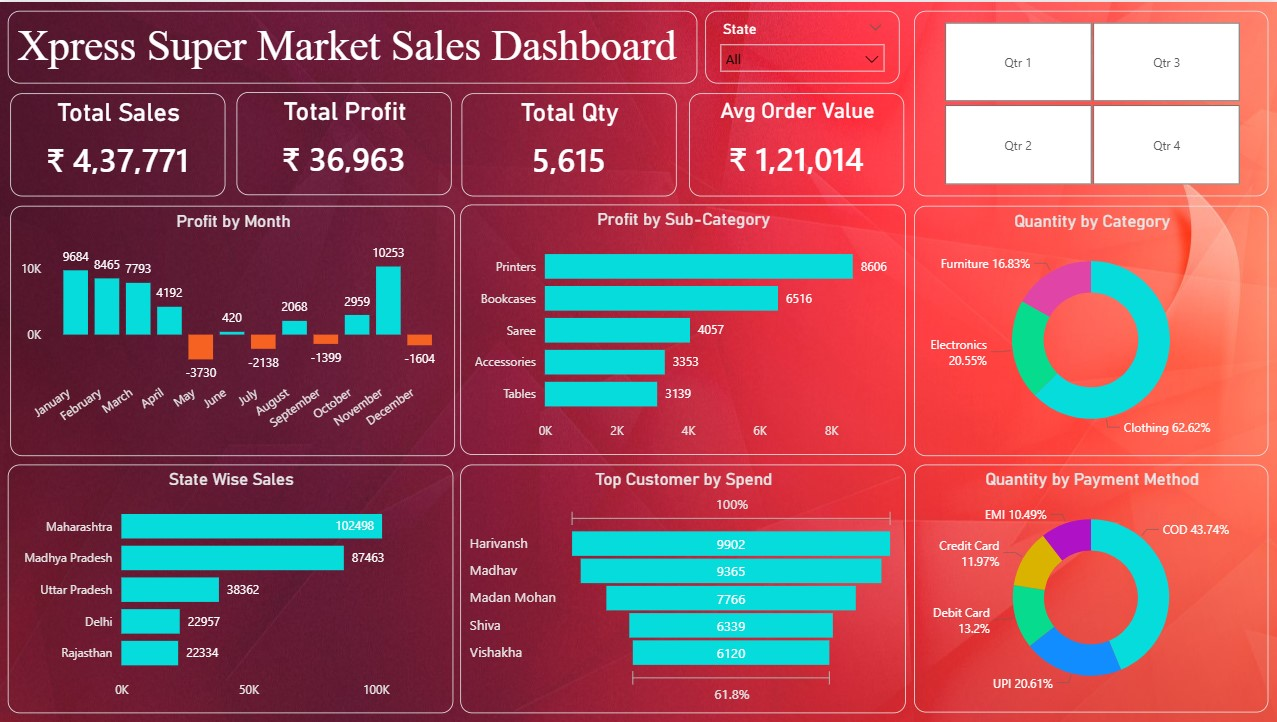

The page's visual inventory and layout, read from the dashboard file:
{"tool":"powerbi","page":{"name":"Page 1","canvas":[1280,720],"ordinal":0},"visuals":[{"type":"columnChart","title":"Profit by Month","fields":{"Y":["Sum(Details.Profit)"],"Category":["Orders.Order Date.Variation.Date Hierarchy.Month"]},"box":[10.7,203.6,445,250],"z":0},{"type":"textbox","box":[8.3,8.3,689.3,72.6],"z":1000},{"type":"barChart","title":"Profit by Sub-Category","fields":{"Y":["Sum(Details.Profit)"],"Category":["Details.Sub-Category"]},"box":[460.7,202.4,445.2,250],"z":2000},{"type":"donutChart","title":"Quantity by Category","fields":{"Category":["Details.Category"],"Y":["Sum(Details.Quantity)"]},"box":[915.5,203.6,354.8,250],"z":3000},{"type":"donutChart","title":"Quantity by Payment Method","fields":{"Y":["Sum(Details.Quantity)"],"Category":["Details.PaymentMode"]},"box":[915.5,463.1,354.8,247.6],"z":4000},{"type":"cardVisual","title":"Total Sales","fields":{"Data":["Sum(Details.Amount)"]},"box":[10.7,91.7,215,103.6],"z":5000},{"type":"cardVisual","title":"Total Profit","fields":{"Data":["Sum(Details.Profit)"]},"box":[238.1,90.5,215.5,103.6],"z":6000},{"type":"cardVisual","title":"Total Qty","fields":{"Data":["Sum(Details.Quantity)"]},"box":[463.1,91.7,215,103.6],"z":7000},{"type":"cardVisual","title":"Avg Order Value","fields":{"Data":["Sum(Details.AOV)"]},"box":[697.6,90.5,215.5,103.6],"z":8000},{"type":"barChart","title":"State Wise Sales","fields":{"Category":["Orders.State"],"Y":["Sum(Details.Amount)"]},"box":[8.3,463.1,445.2,248.8],"z":9000},{"type":"funnel","title":"Top Customer by Spend","fields":{"Y":["Sum(Details.Amount)"],"Category":["Orders.CustomerName"]},"box":[460.7,461.9,445.2,248.8],"z":10000},{"type":"slicer","fields":{"Values":["Orders.Order Date.Variation.Date Hierarchy.Quarter"]},"box":[915.5,8.3,354.8,185.7],"z":11000},{"type":"slicer","fields":{"Values":["Orders.State"]},"box":[706,8.3,194,72.6],"z":12000}]}

Visuals, with their boxes in screenshot pixels (x1, y1, x2, y2), scaled from the page's 1280x720 canvas onto the 1277x722 screenshot:
"Profit by Month" columnChart: locate(11, 204, 455, 455)
textbox: locate(8, 8, 696, 81)
"Profit by Sub-Category" barChart: locate(460, 203, 904, 454)
"Quantity by Category" donutChart: locate(913, 204, 1267, 455)
"Quantity by Payment Method" donutChart: locate(913, 464, 1267, 713)
"Total Sales" cardVisual: locate(11, 92, 225, 196)
"Total Profit" cardVisual: locate(238, 91, 453, 195)
"Total Qty" cardVisual: locate(462, 92, 677, 196)
"Avg Order Value" cardVisual: locate(696, 91, 911, 195)
"State Wise Sales" barChart: locate(8, 464, 452, 714)
"Top Customer by Spend" funnel: locate(460, 463, 904, 713)
slicer - Orders.Order Date.Variation.Date Hierarchy.Quarter: locate(913, 8, 1267, 195)
slicer - Orders.State: locate(704, 8, 898, 81)
